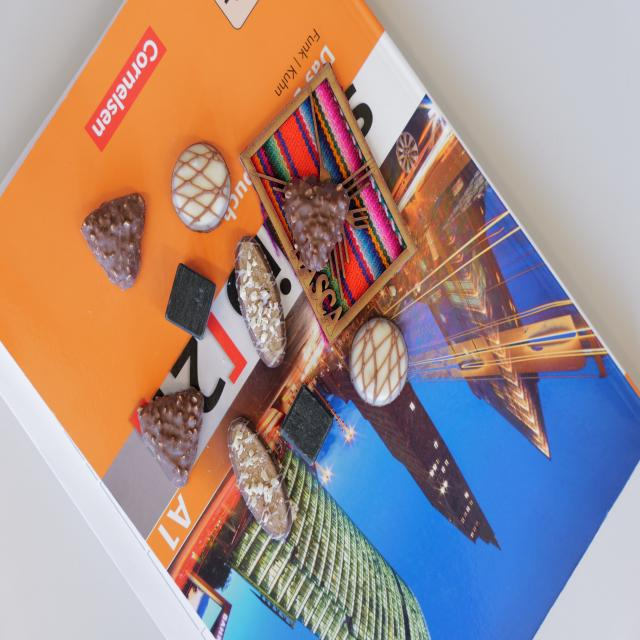Amandina: (226, 416, 294, 544), (235, 235, 288, 370)
Creme_brulee: (170, 142, 232, 234), (351, 316, 408, 411)
Triangolo: (137, 387, 205, 488), (81, 190, 147, 294), (281, 178, 350, 272)
